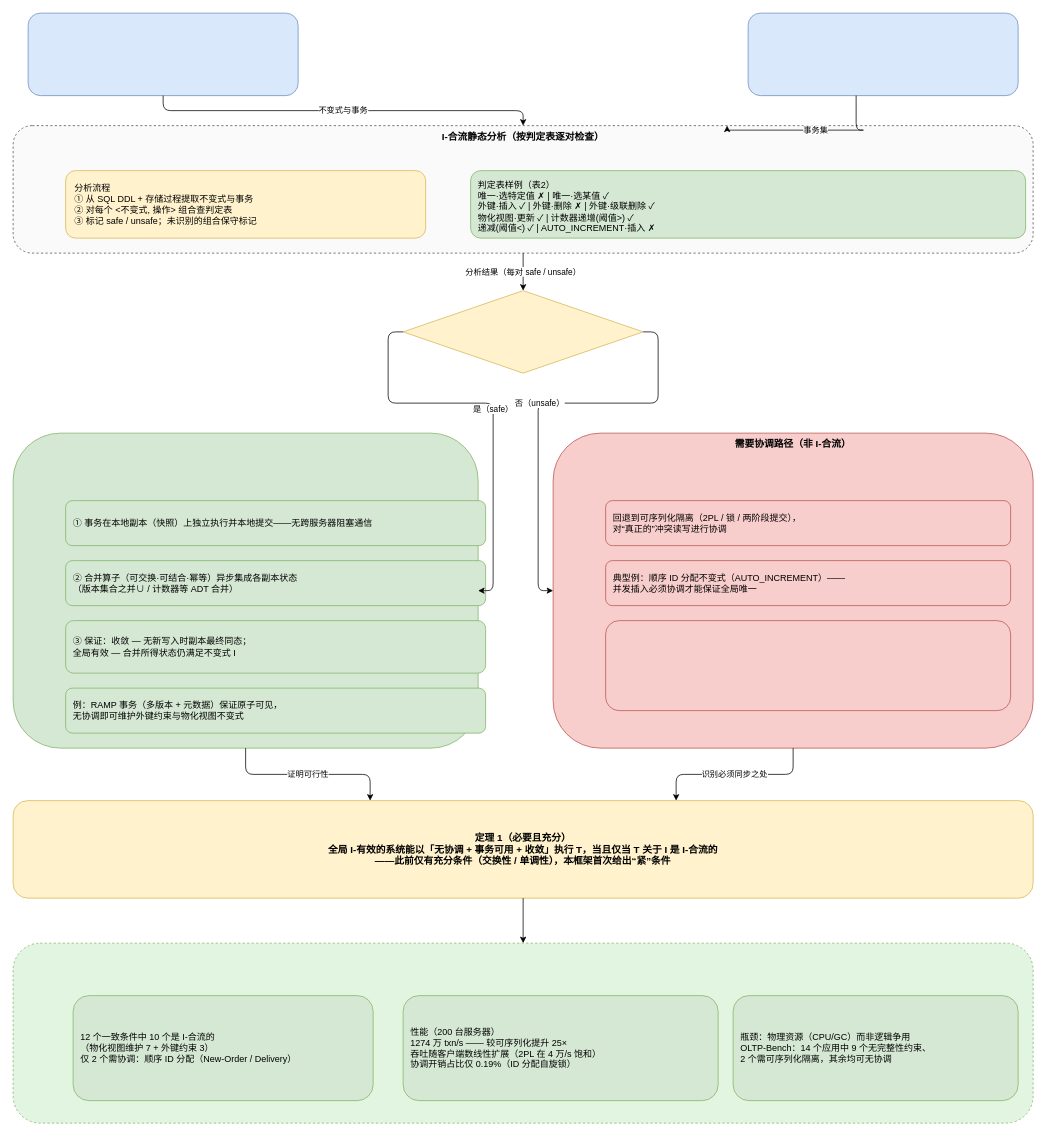
The diagram is 1046 pixels wide and 1136 high, and some of its shapes have lost their labels. Each missing label, with the box of its shape:
TPC-C 案例验证: (12, 942, 1033, 1123)
事务集 T（存储过程） 插入 / 删除 / 更新 / 递增·递减 读取与删除往往可无协调执行: (747, 12, 1018, 96)
判定： T 关于 I 是否 I-合流？: (402, 290, 643, 373)
削减协调的设计技巧： 事务先用匿名唯一 ID（tmpID）无协调执行， 提交瞬间原子分配真实 ID 并登记映射表—— 所有协调收窄到单一服务器: (605, 620, 1011, 711)
应用不变式 I（正确性标准） SQL DDL 约束：主键 / 唯一 / 外键 / 检查 物化视图一致性 · 数据类阈值: (27, 12, 298, 96)
无协调执行路径（I-合流 ⟹ 安全）: (12, 432, 478, 748)
